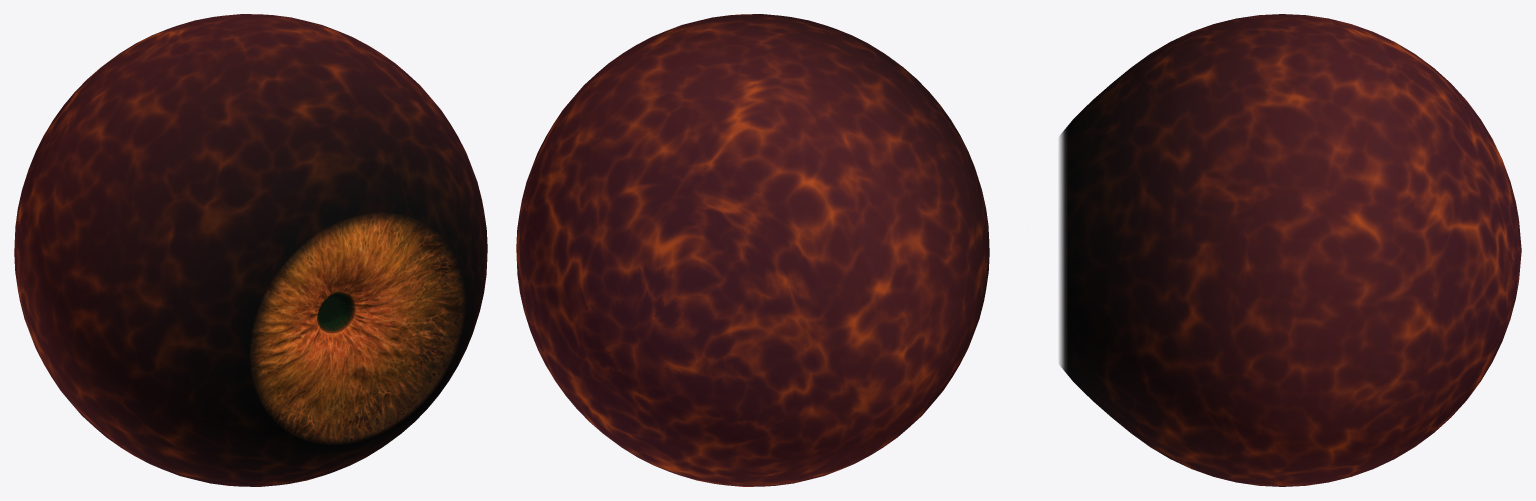
Rendered from kraken_eyeball_-_blender_file.glb.
The picture shows the model from 3 angles, left to right: view 1: azimuth 30°, elevation 25°; view 2: azimuth 150°, elevation 25°; view 3: azimuth 270°, elevation 25°; orthographic projection.
Parts seen in each view (by area): view 1: eye-kraken_1, irys.kraken_0; view 2: eye-kraken_1; view 3: eye-kraken_1.
Part boxes in pixels (x1,y1,x2,y2): eye-kraken_1: [14, 14, 487, 486]; irys.kraken_0: [251, 213, 465, 444]; eye-kraken_1: [516, 14, 989, 486]; eye-kraken_1: [1059, 14, 1521, 486].
Size of the model in its own units: 0.2688 by 0.2688 by 0.2858.
2 materials, 2 textured.
